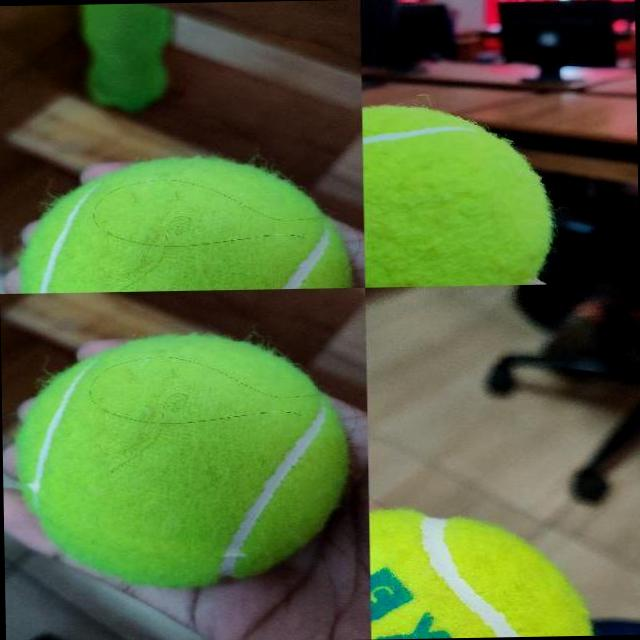Tennis Ball: (17, 334, 348, 590), (19, 156, 350, 292), (362, 103, 554, 286), (370, 509, 595, 638)
